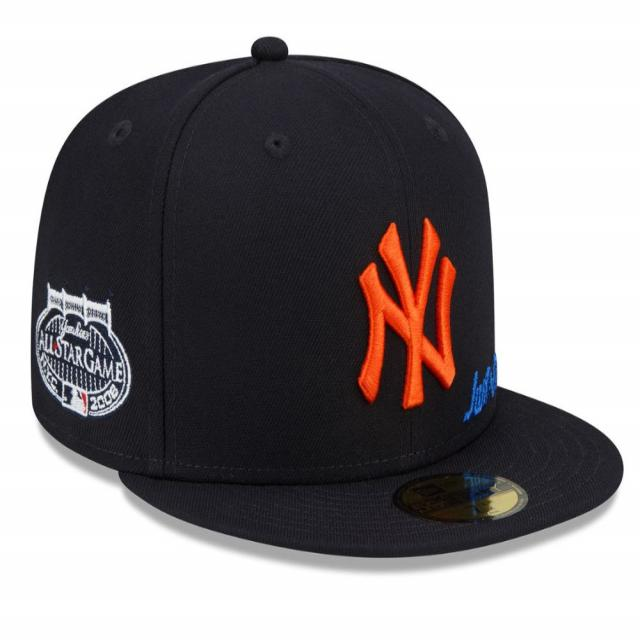Cap: (29, 23, 626, 598)
